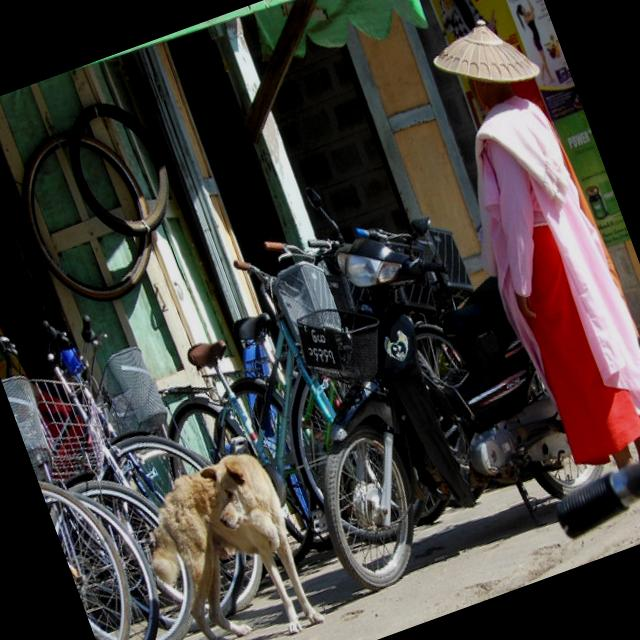Vehicle: (238, 184, 620, 600)
